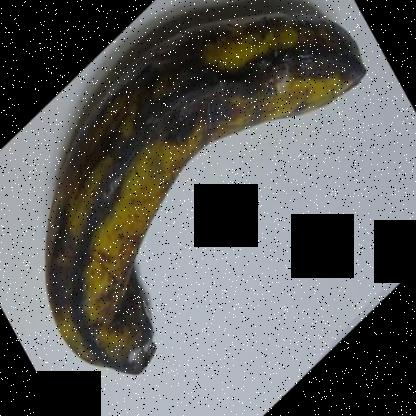overripe: (40, 12, 371, 403)
